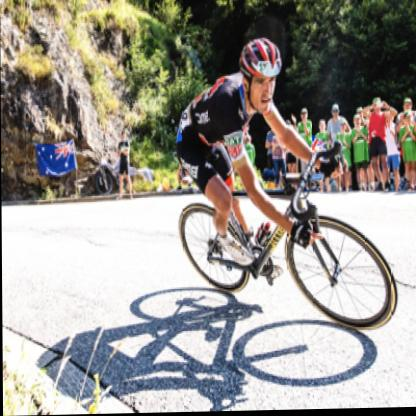With Helmet: (240, 32, 282, 119)
